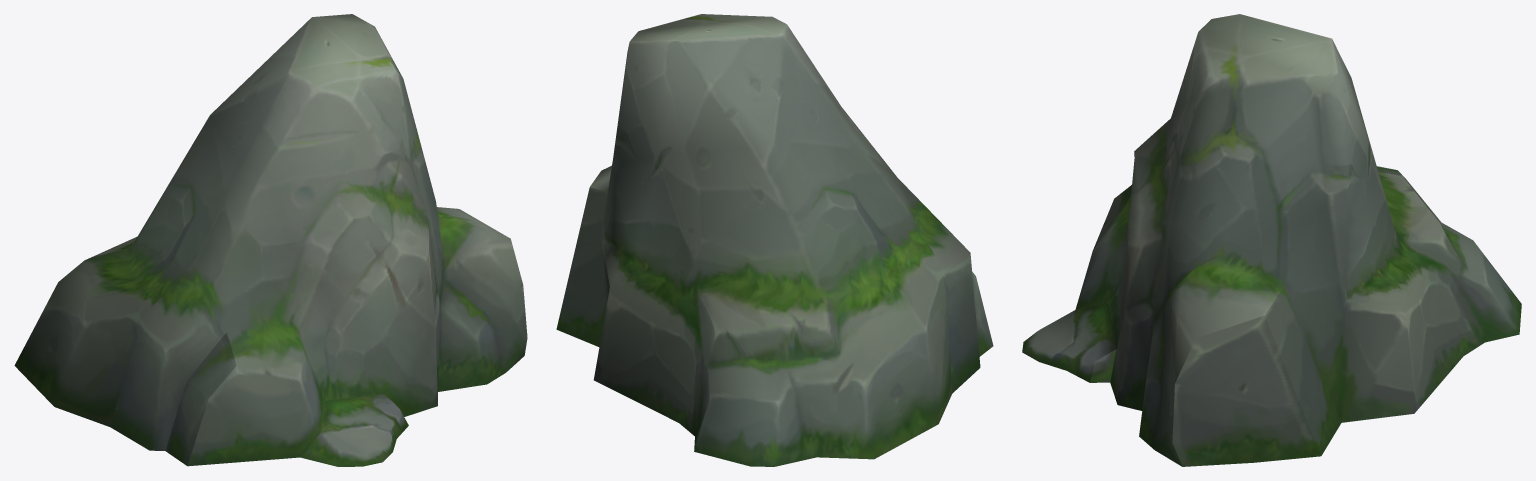
The model's file is scene_lawennushandao_stone03.FBX.
3 renders of one model, left to right at view 1: azimuth 30°, elevation 25°; view 2: azimuth 150°, elevation 25°; view 3: azimuth 270°, elevation 25°, orthographic. The views are drawn at different scales.
Visible parts, largest first — view 1: scene_lawennushandao_stone03; view 2: scene_lawennushandao_stone03; view 3: scene_lawennushandao_stone03.
Part boxes in pixels (left/top/right/bottom): scene_lawennushandao_stone03: left=14, top=14, right=527, bottom=466; scene_lawennushandao_stone03: left=556, top=14, right=993, bottom=466; scene_lawennushandao_stone03: left=1022, top=14, right=1521, bottom=466.
Bounding box in the file's own units: 420 × 320 × 412.
